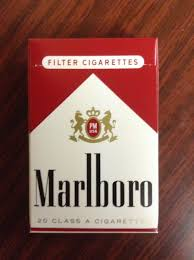marlboro: (29, 41, 157, 233)
